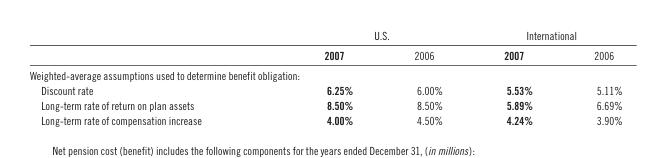table: (28, 28, 621, 126)
table column: (28, 28, 262, 126), (262, 28, 382, 126), (382, 28, 472, 126), (472, 28, 562, 126), (562, 28, 621, 126)
table column header: (28, 28, 621, 65)
table projected row header: (28, 65, 621, 82)
table row: (28, 45, 621, 65), (28, 28, 621, 45), (28, 65, 621, 82), (28, 82, 621, 97), (28, 97, 621, 112), (28, 112, 621, 126)
table spanning cell: (262, 28, 472, 45), (472, 28, 621, 45)
